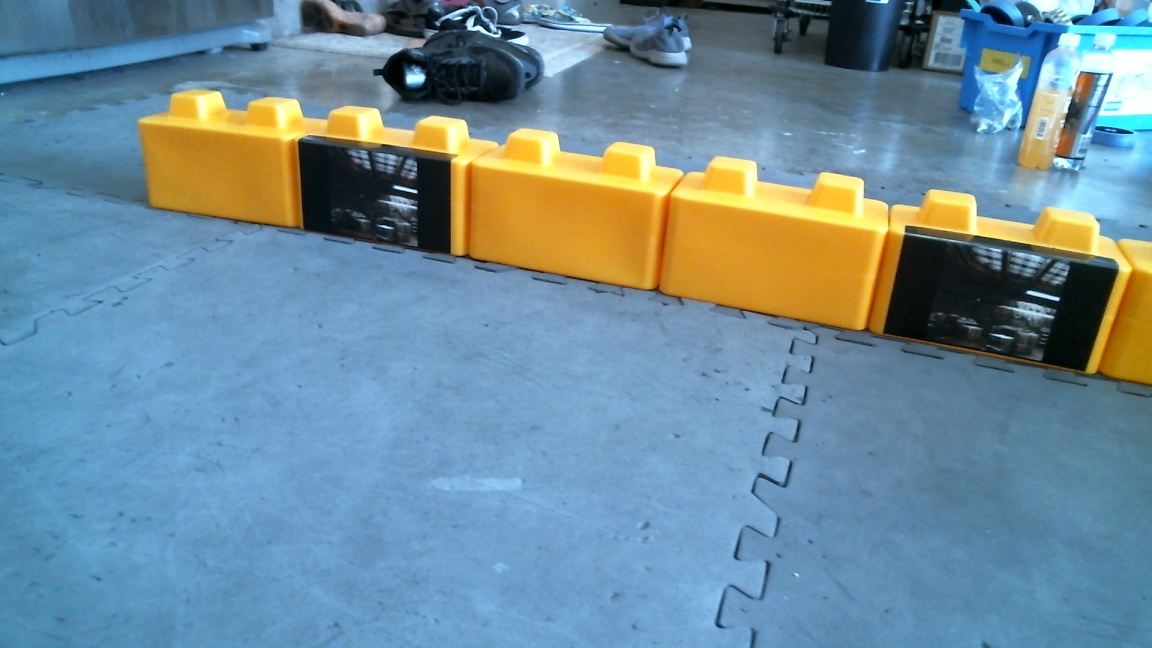center: (132, 90, 662, 297)
left: (293, 104, 881, 338)
right: (469, 124, 1128, 375)
